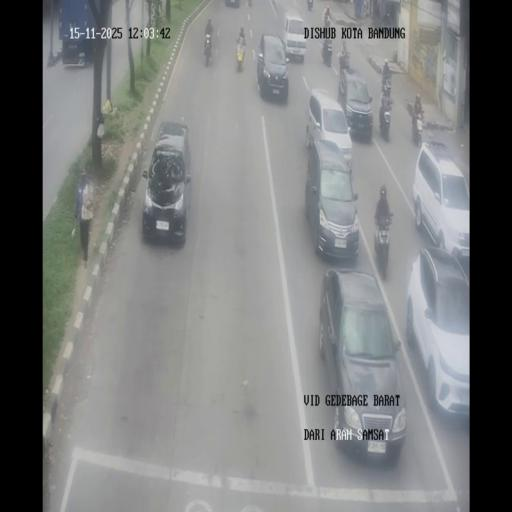3: (58, 0, 96, 68)
car: (320, 268, 404, 460), (407, 247, 469, 421), (413, 142, 469, 264), (305, 136, 358, 260), (141, 121, 192, 245), (337, 68, 373, 142), (256, 32, 289, 101), (283, 10, 307, 62)
truck: (372, 211, 392, 278), (410, 106, 424, 146), (379, 98, 392, 140), (236, 38, 246, 72), (321, 38, 332, 66), (338, 50, 350, 74), (381, 72, 392, 98), (204, 34, 212, 66), (323, 5, 331, 30), (384, 11, 392, 28), (362, 0, 369, 17), (308, 0, 314, 12), (248, 0, 252, 7)
